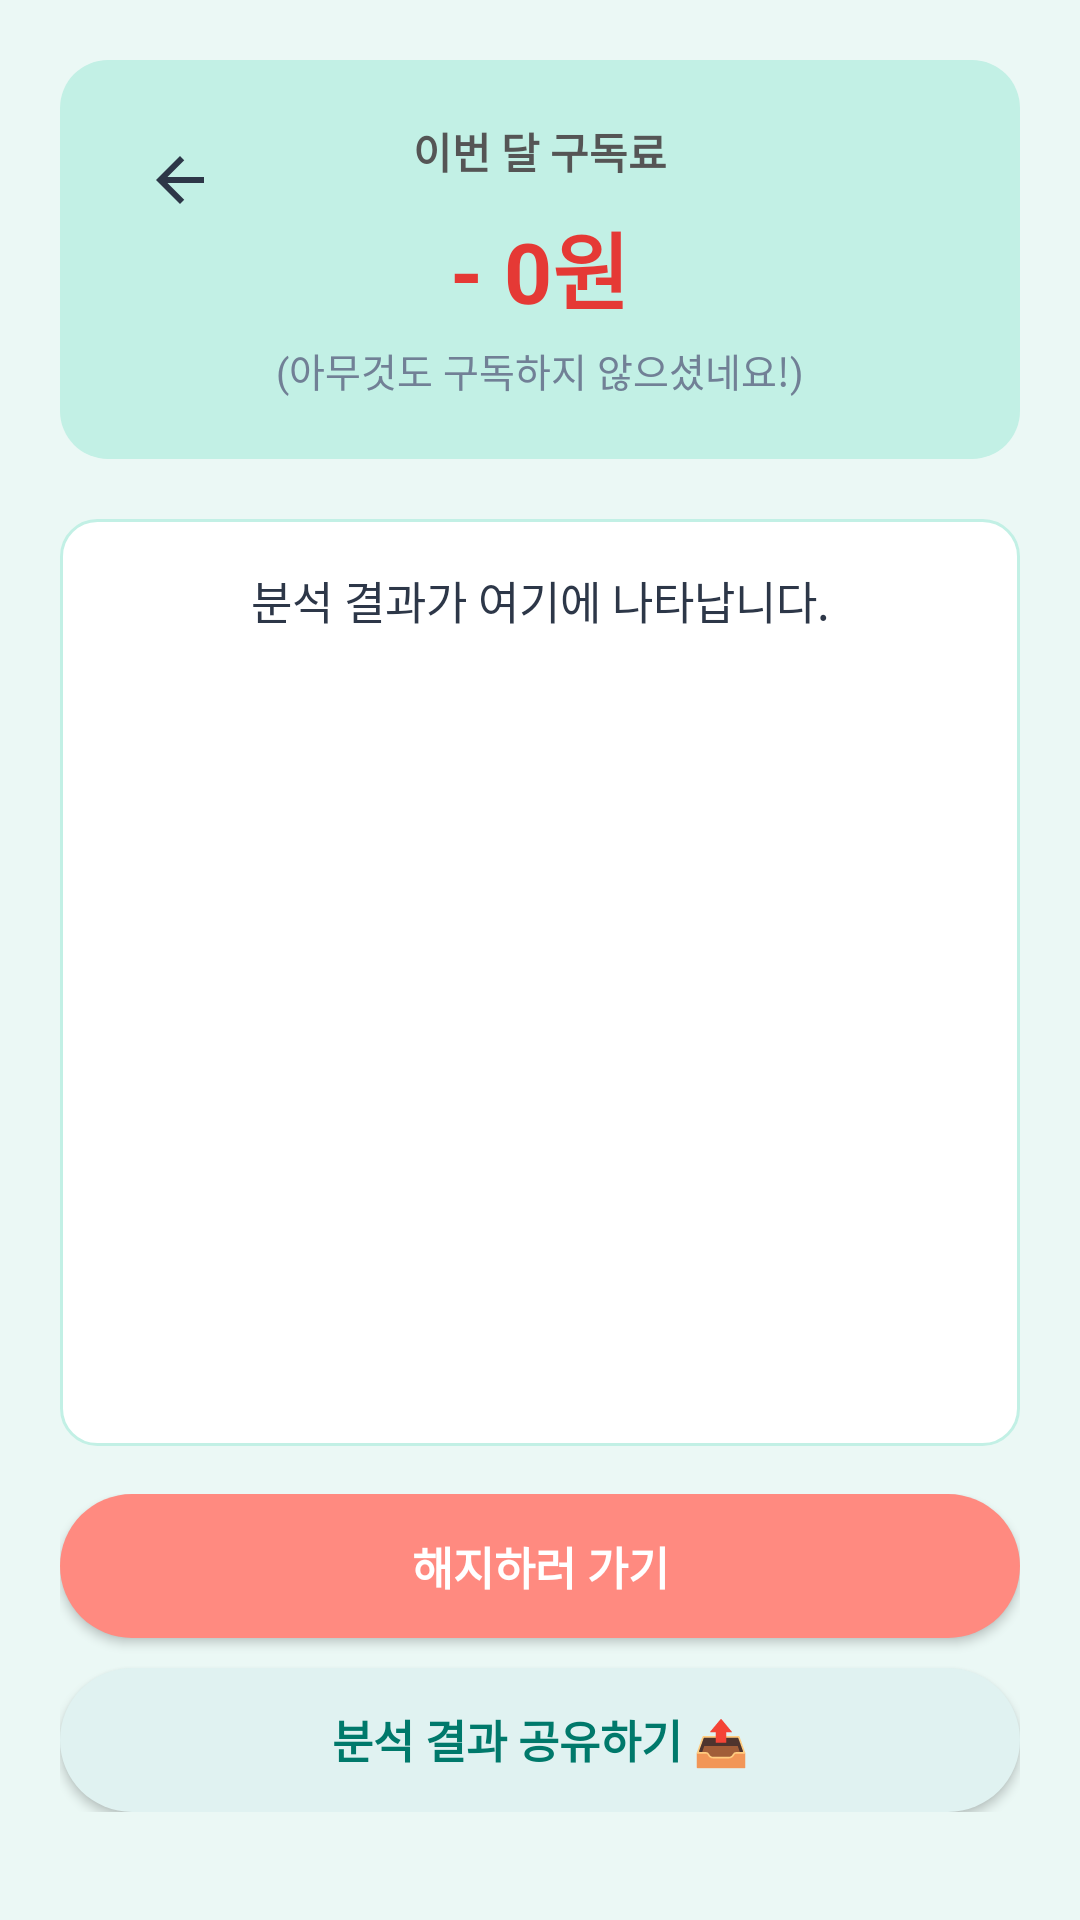

Icon bounding boxes for this 1080px x 1920px phone screenshot, format bbox=(x1, y1, x2, y2):
뒤로가기: bbox=(156, 156, 204, 204)
